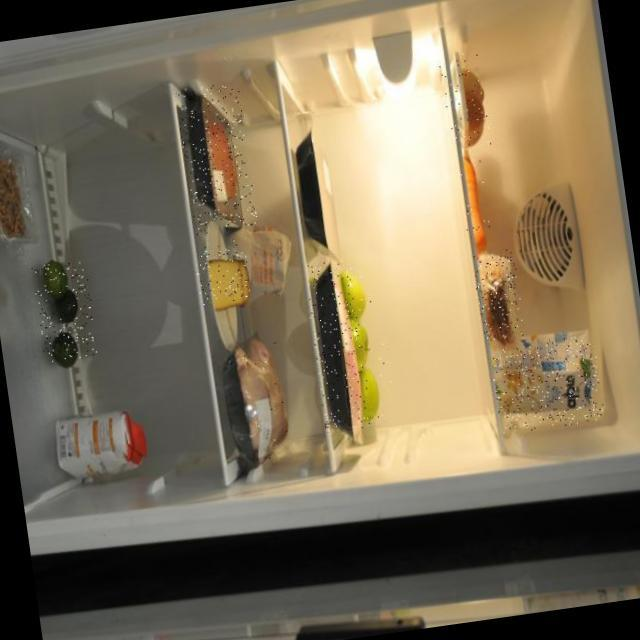Carne pollo: (220, 337, 301, 463)
Huevos: (438, 51, 491, 155)
Manzana: (330, 264, 397, 433)
Queso: (193, 239, 252, 307)
Zanahoria: (453, 157, 494, 248)
bread: (470, 248, 524, 341)
lime: (31, 260, 98, 365)
meat: (174, 82, 258, 235), (302, 259, 373, 432), (283, 133, 356, 253)
milk: (488, 334, 605, 435)
